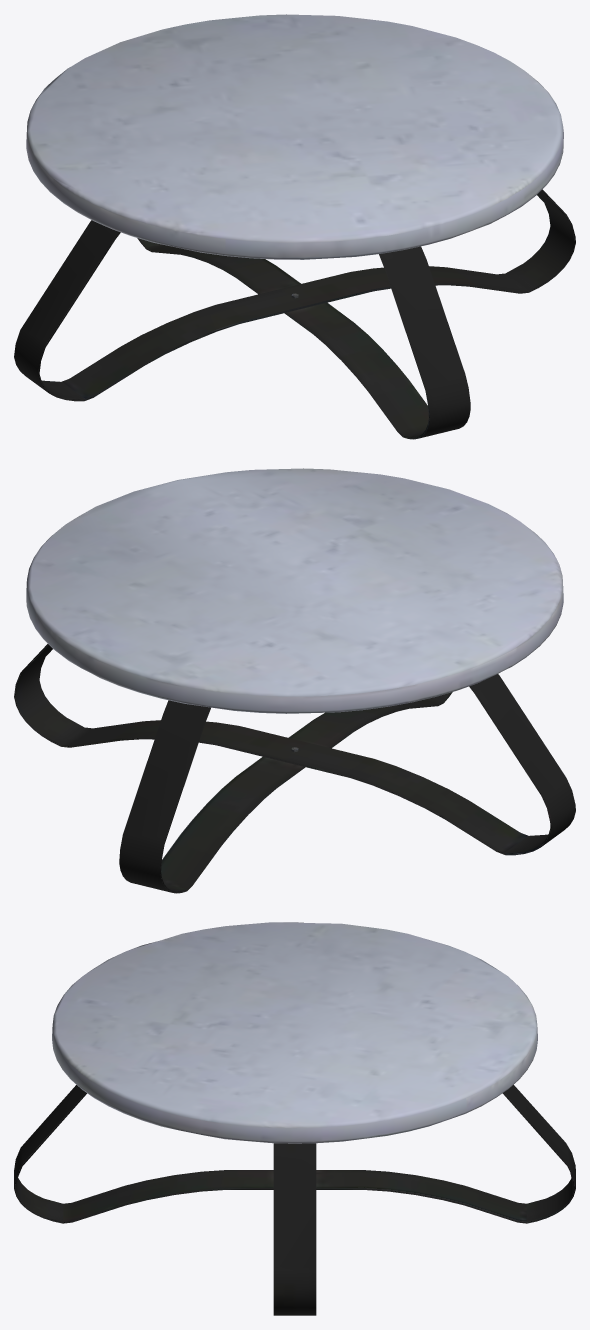
The model's file is tableRound_lo.glb.
3 renders of one model, top to bottom at view 1: azimuth 30°, elevation 25°; view 2: azimuth 150°, elevation 25°; view 3: azimuth 270°, elevation 25°, orthographic. The views are drawn at different scales.
Parts seen in each view (by area): view 1: coffee_table_round_01; view 2: coffee_table_round_01; view 3: coffee_table_round_01.
Boxes of the visible parts, x1,y1,x2,y2 form: coffee_table_round_01: [14, 14, 575, 439]; coffee_table_round_01: [14, 468, 575, 893]; coffee_table_round_01: [14, 922, 575, 1315].
Bounding box in the file's own units: 1.3 × 0.4909 × 1.3.
Materials: 1 (1 with a texture image).
